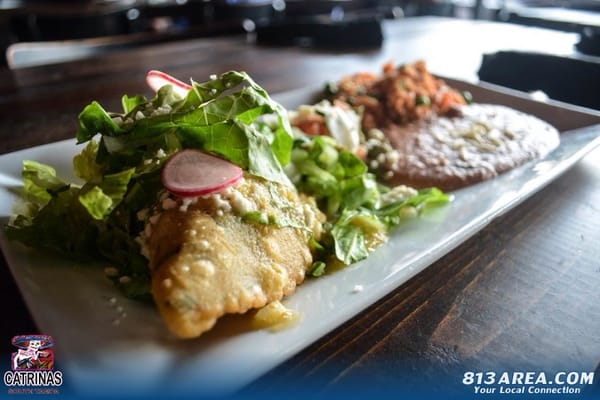soup: (4, 67, 329, 340)
